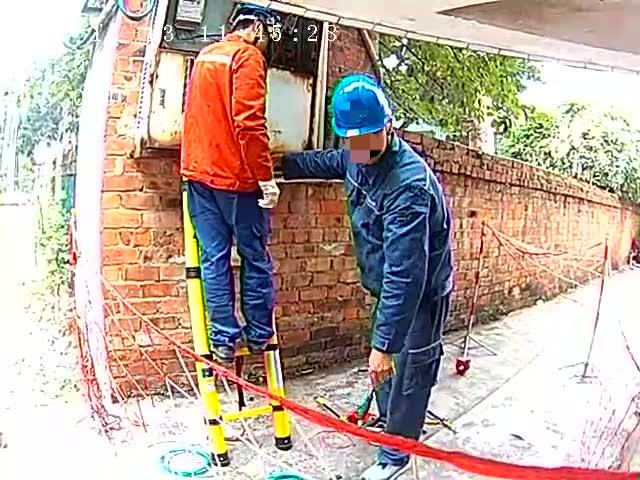halt: (329, 74, 395, 168), (228, 5, 280, 43)
